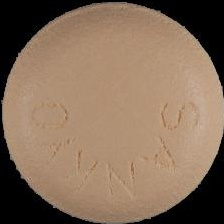55154-6125: (0, 0, 224, 224)
